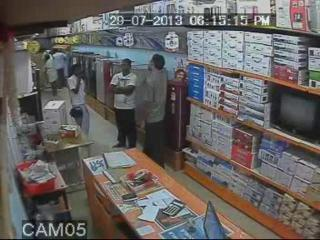Normal: (139, 54, 169, 166), (270, 90, 320, 147), (110, 58, 138, 149)
